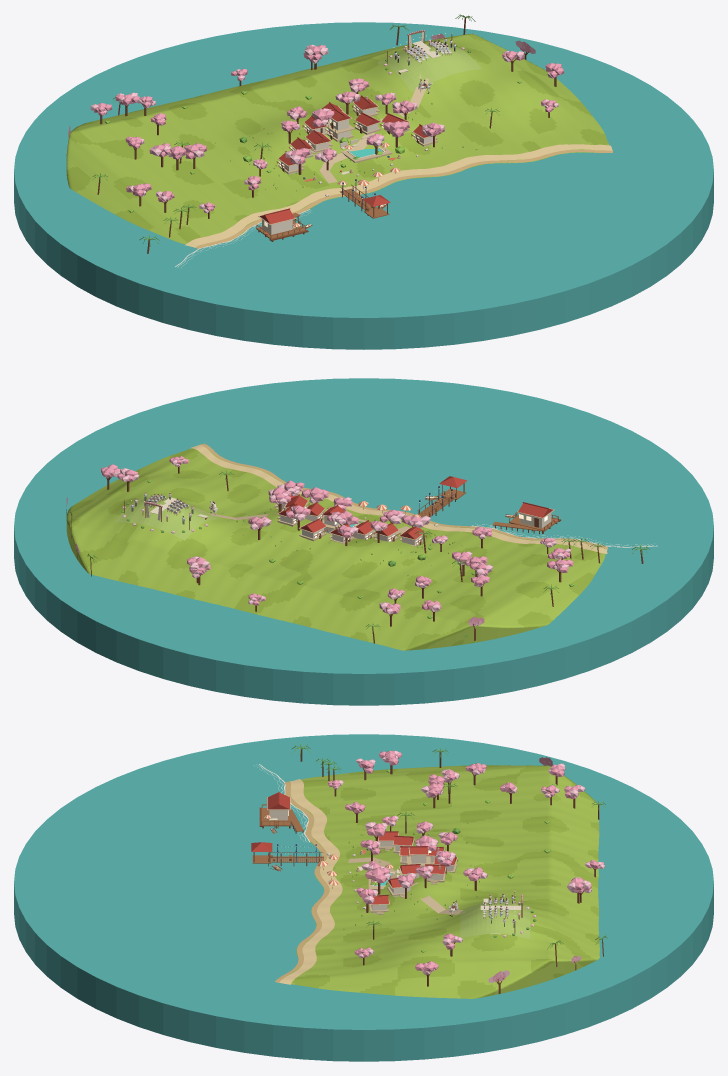
File: bay-resort.glb
The picture shows the model from 3 angles, top to bottom: view 1: azimuth 30°, elevation 25°; view 2: azimuth 150°, elevation 25°; view 3: azimuth 270°, elevation 25°; orthographic projection.
Parts seen in each view (by area): view 1: GEO-water_disc, GEO-terrain, GEO-beach_sand, GEO-wedding_lawn, GEO-beach_wet, GEO-path_stone; view 2: GEO-water_disc, GEO-terrain, GEO-wedding_lawn, GEO-beach_sand, GEO-beach_wet; view 3: GEO-water_disc, GEO-terrain, GEO-beach_sand, GEO-wedding_lawn, GEO-beach_wet, GEO-path_stone.
Part boxes in pixels (x1,y1,x2,y2): GEO-water_disc: (14, 22, 713, 349); GEO-terrain: (66, 33, 609, 246); GEO-beach_sand: (185, 144, 612, 247); GEO-wedding_lawn: (377, 44, 481, 92); GEO-beach_wet: (195, 150, 612, 248); GEO-path_stone: (319, 73, 429, 183); GEO-water_disc: (14, 378, 713, 705); GEO-terrain: (66, 448, 605, 650); GEO-wedding_lawn: (114, 495, 218, 540); GEO-beach_sand: (191, 445, 607, 553); GEO-beach_wet: (200, 443, 607, 548); GEO-water_disc: (14, 734, 713, 1061); GEO-terrain: (288, 765, 599, 998); GEO-beach_sand: (279, 779, 342, 984); GEO-wedding_lawn: (460, 901, 530, 938); GEO-beach_wet: (275, 781, 329, 982); GEO-path_stone: (348, 857, 472, 914).
Size of the model in its own units: 120 by 15.31 by 120.
